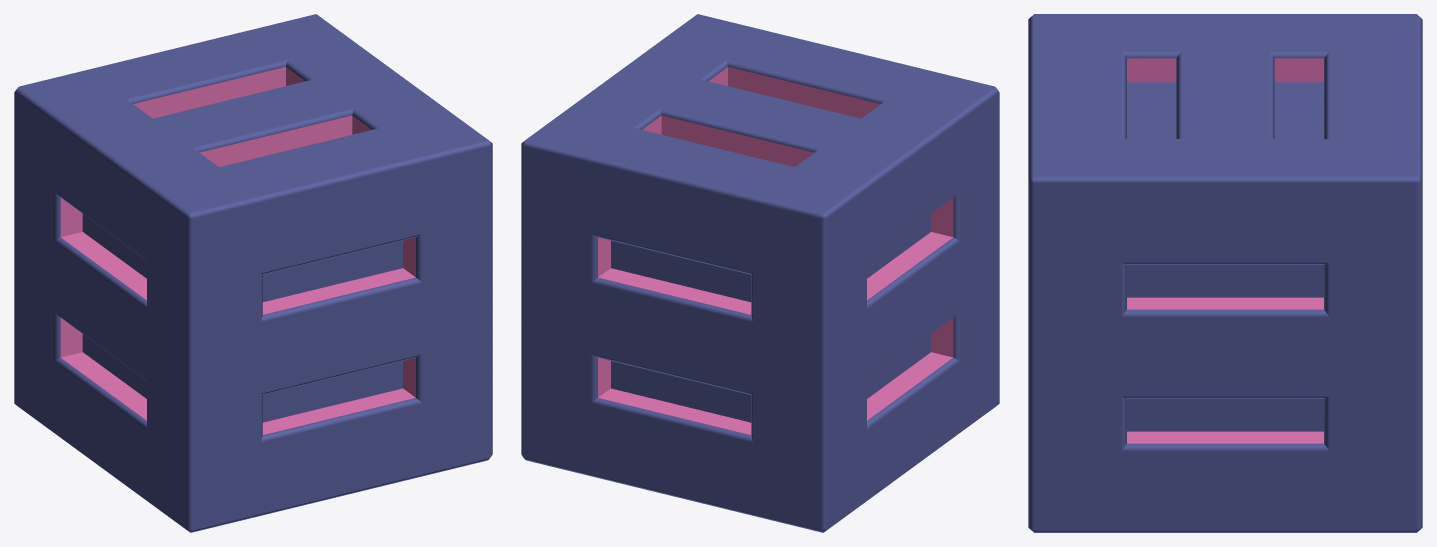
Rendered from Random_Box.fbx.
3 views of the same model, side by side, from view 1: azimuth 30°, elevation 25°; view 2: azimuth 150°, elevation 25°; view 3: azimuth 270°, elevation 25° (orthographic). The views are drawn at different scales.
Parts seen in each view (by area): view 1: Cube; view 2: Cube; view 3: Cube.
Part boxes in pixels (left/top/right/bottom): Cube: left=14, top=14, right=492, bottom=532; Cube: left=521, top=14, right=999, bottom=532; Cube: left=1028, top=14, right=1422, bottom=532.
Size of the model in its own units: 50 by 50 by 50.
